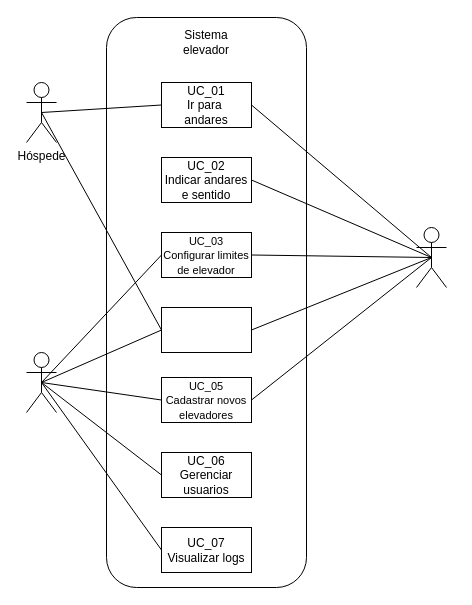
Some shapes in this 472 by 605 pixel diagram are drawn without their labels. The shapes that lost their labels are listed below. From the top down, each one's box as (x1, y1, x2, y2) in pixels, then its label:
(416, 226, 446, 288): Elevador
(160, 306, 252, 352): UC_04 Acionar emergencia
(26, 352, 56, 412): Usuário
